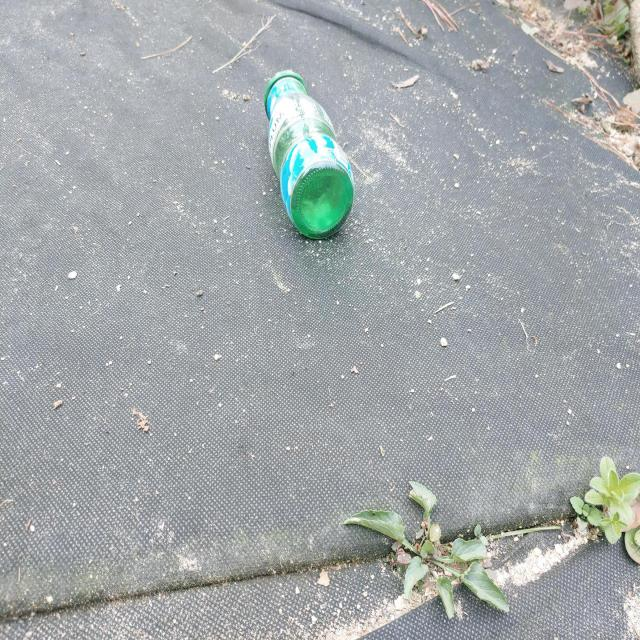glass: (265, 70, 355, 238)
